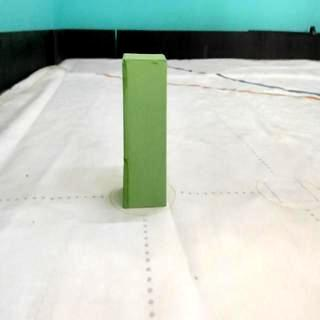greenbox: (122, 52, 168, 209)
